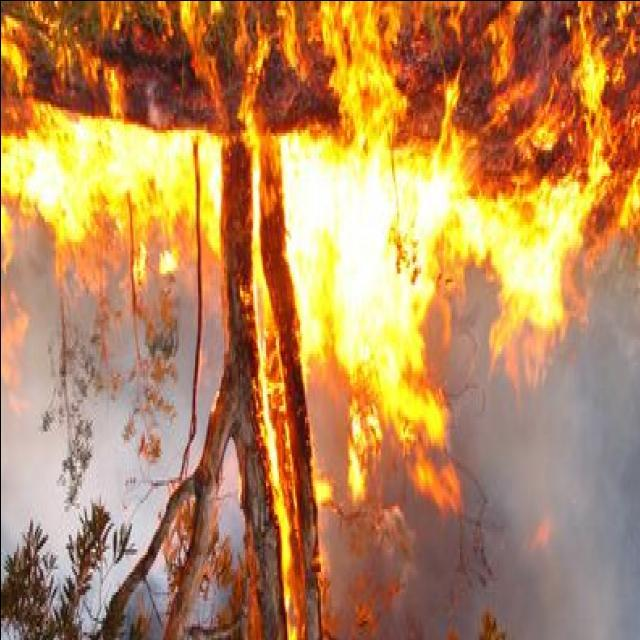Fire: (5, 1, 633, 628)
